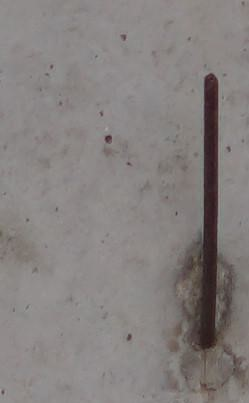Exposed reinforcement: (200, 72, 219, 350)
Spalling: (173, 233, 236, 393)
